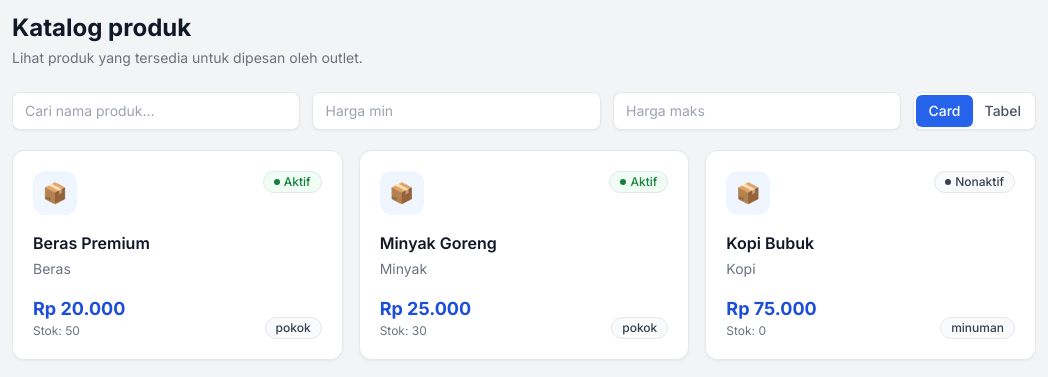
Test case: ProductCatalog — view mode + product filters › switches to a table when the "Tabel" toggle is clicked
Expected: the heading "Beras Premium" is shown, [33, 233, 150, 253]
Click the button "Tabel". click: (1003, 111)
box: [972, 95, 1033, 127]
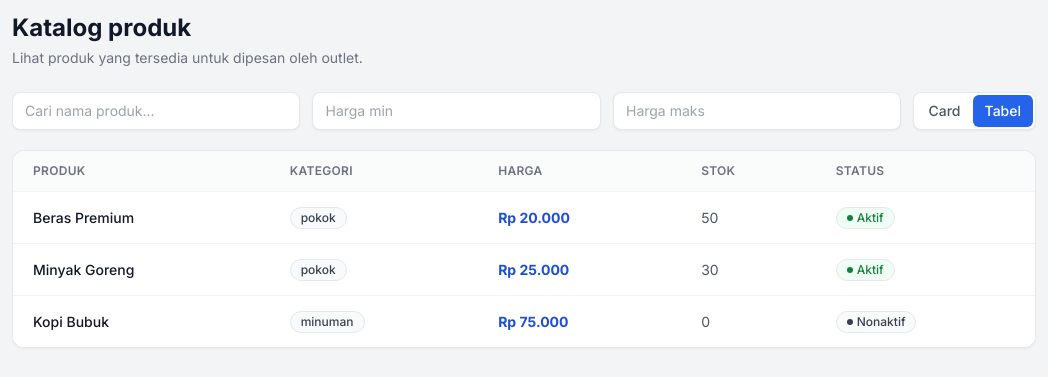
Now the table is shown, box [13, 151, 1035, 347]
Now the column heading "Kategori" is shown, box [270, 151, 478, 192]
